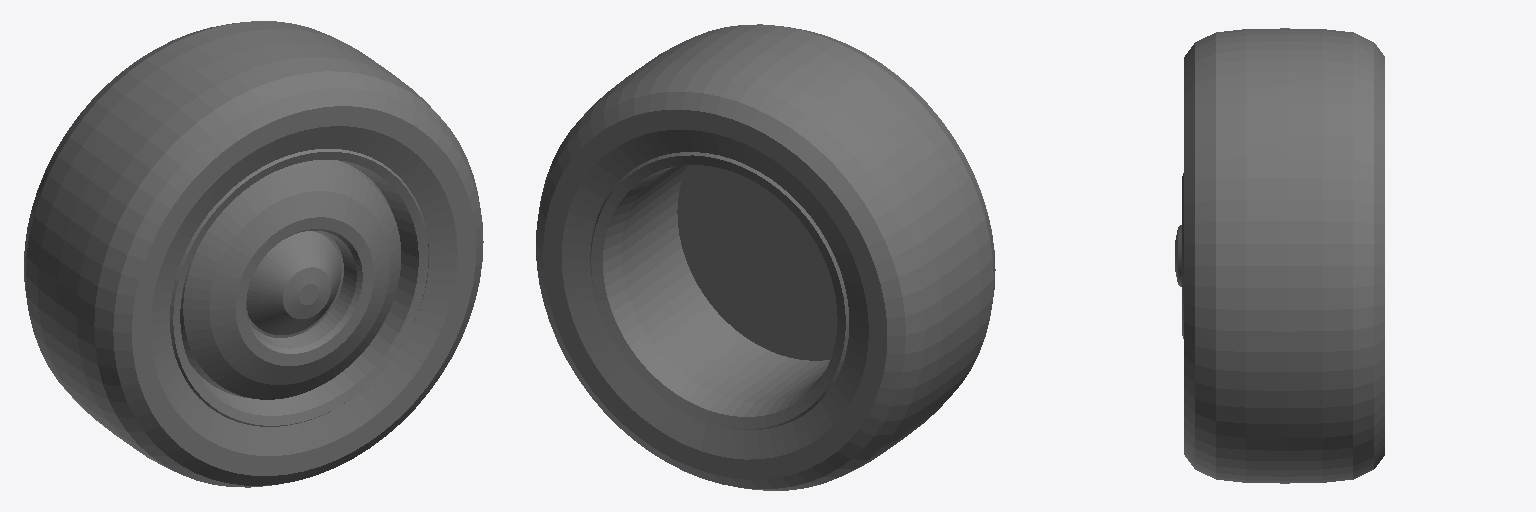
File: incredimovil_llanta_der.obj
3 views of the same model, side by side, from view 1: azimuth 30°, elevation 25°; view 2: azimuth 150°, elevation 25°; view 3: azimuth 270°, elevation 25° (orthographic).
Visible parts, largest first — view 1: Llanta_Derecha; view 2: Llanta_Derecha; view 3: Llanta_Derecha.
Part boxes in pixels (left/top/right/bottom): Llanta_Derecha: left=24, top=21, right=483, bottom=487; Llanta_Derecha: left=536, top=24, right=995, bottom=490; Llanta_Derecha: left=1175, top=28, right=1384, bottom=483.
Bounding box in the file's own units: 5.98 × 5.98 × 2.77.